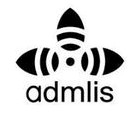adidas Fake: (14, 7, 125, 104)
